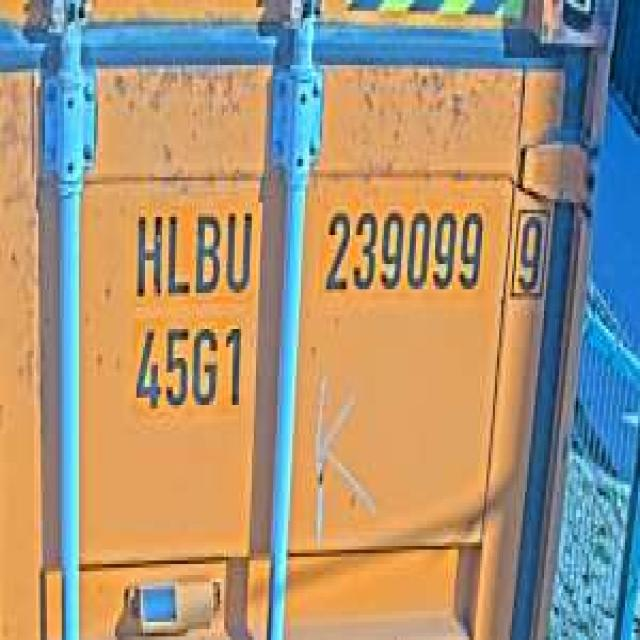dv: (506, 195, 552, 308)
owner: (130, 199, 256, 304)
serial: (316, 199, 486, 300)
size: (128, 318, 245, 419)
